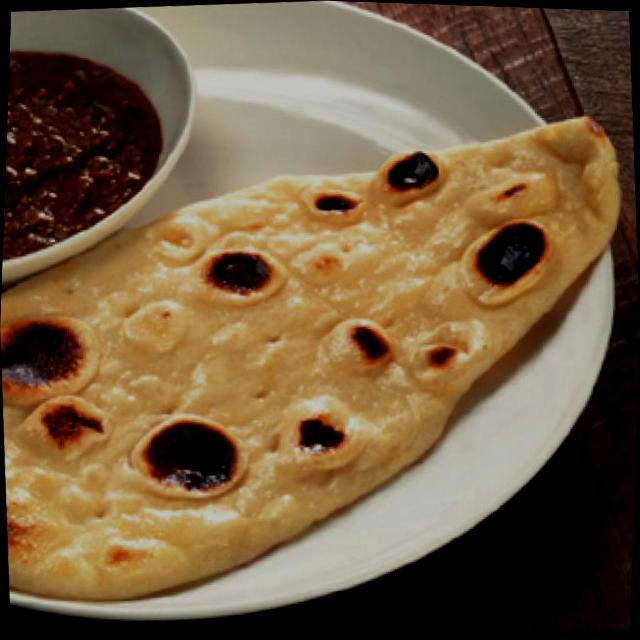Beef Curry: (2, 42, 160, 237)
